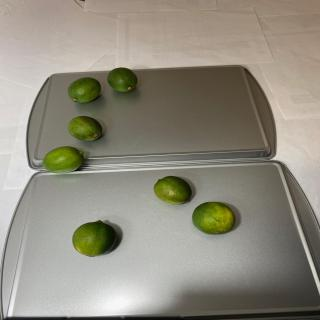Lemon: (72, 220, 117, 257), (192, 201, 236, 235), (42, 146, 84, 174), (153, 176, 192, 204), (68, 115, 102, 142), (67, 77, 101, 103), (107, 67, 138, 93)
